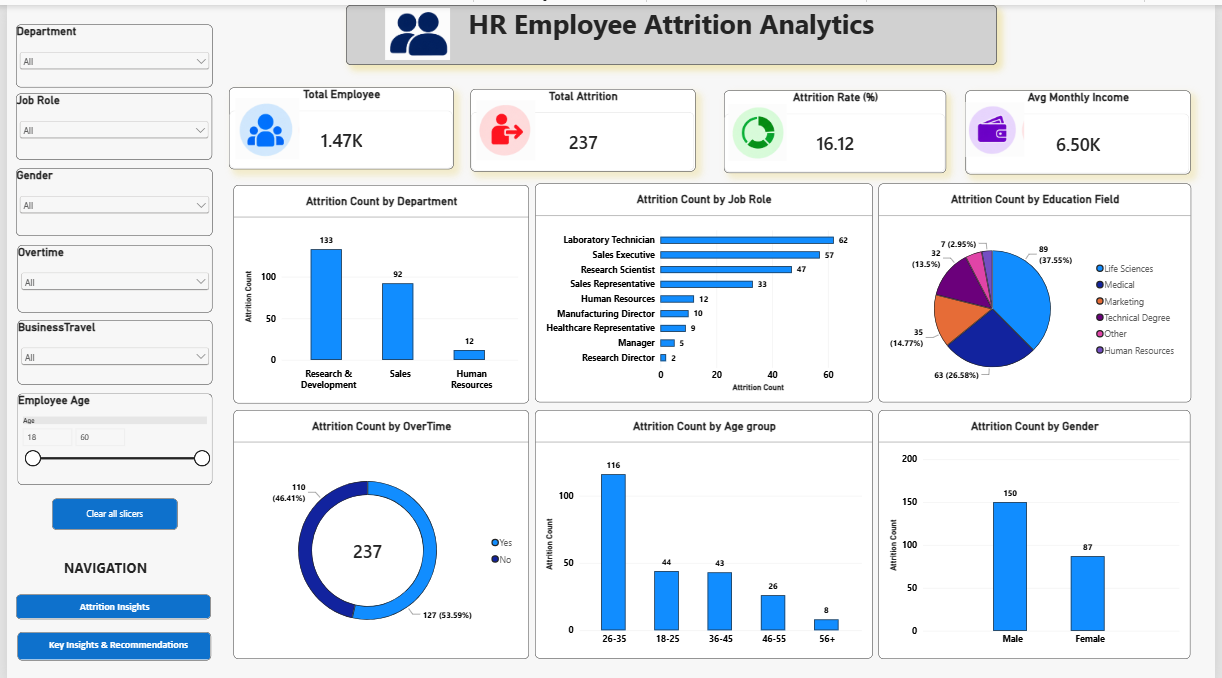

What the dashboard file says about the page in this screenshot:
{"tool":"powerbi","page":{"name":"EXECUTIVE OVERVIEW","canvas":[1920,1080],"ordinal":1},"visuals":[{"type":"textbox","box":[540,0,1035,95],"z":0},{"type":"cardVisual","title":"Total Employee","fields":{"Data":["hr_analytics hr_attrition.Total_Employee"]},"box":[353.1,131.2,357.5,130],"z":1000},{"type":"cardVisual","title":"Total Attrition","fields":{"Data":["hr_analytics hr_attrition.Total Attrition"]},"box":[737.2,133.6,357.9,131.2],"z":2000},{"type":"cardVisual","title":"Attrition Rate (%)","fields":{"Data":["hr_analytics hr_attrition.Attrition_rate"]},"box":[1140.5,136,353.1,131.2],"z":3000},{"type":"cardVisual","title":"Avg Monthly Income","fields":{"Data":["hr_analytics hr_attrition.avg_onthly_income"]},"box":[1524.6,136,357.9,133.6],"z":4000},{"type":"columnChart","title":"Attrition Count by Department","fields":{"Category":["hr_analytics hr_attrition.Department"],"Y":["hr_analytics hr_attrition.Total Attrition"]},"box":[360,286,470,347],"z":5000},{"type":"clusteredBarChart","title":"Attrition Count by Job Role","fields":{"Category":["hr_analytics hr_attrition.JobRole"],"Y":["hr_analytics hr_attrition.Total Attrition"]},"box":[839,285,537,348],"z":6000},{"type":"columnChart","title":"Attrition Count by Gender","fields":{"Category":["hr_analytics hr_attrition.Gender"],"Y":["hr_analytics hr_attrition.Total Attrition"]},"box":[1386,645,496,396],"z":7000},{"type":"donutChart","title":"Attrition Count by OverTime","fields":{"Category":["hr_analytics hr_attrition.OverTime"],"Y":["hr_analytics hr_attrition.Total Attrition"]},"box":[360,645,470,396.2],"z":8000},{"type":"pieChart","title":"Attrition Count by Education Field","fields":{"Category":["hr_analytics hr_attrition.EducationField"],"Y":["hr_analytics hr_attrition.Total Attrition"]},"box":[1386,285,497,348],"z":9000},{"type":"columnChart","title":" Attrition Count by Age group","fields":{"Category":["hr_analytics hr_attrition.Age Group"],"Y":["hr_analytics hr_attrition.Total Attrition"]},"box":[840,645,537.5,395],"z":10000},{"type":"slicer","title":"Department","fields":{"Values":["hr_analytics hr_attrition.Department"]},"box":[14.5,30.9,312.7,100],"z":11000},{"type":"slicer","title":"Job Role","fields":{"Values":["hr_analytics hr_attrition.JobRole"]},"box":[14.5,140.9,311.8,105.5],"z":12000},{"type":"slicer","title":"Gender","fields":{"Values":["hr_analytics hr_attrition.Gender"]},"box":[13.6,260.9,312.7,107.3],"z":13000},{"type":"slicer","title":"Overtime","fields":{"Values":["hr_analytics hr_attrition.OverTime"]},"box":[16.4,381.8,310,107.3],"z":14000},{"type":"slicer","title":"BusinessTravel","fields":{"Values":["hr_analytics hr_attrition.BusinessTravel"]},"box":[16.4,500.9,310,102.7],"z":15000},{"type":"slicer","title":"Employee Age","fields":{"Values":["hr_analytics hr_attrition.Age"]},"box":[17.5,617.5,310,145],"z":16000},{"type":"actionButton","box":[70.8,785.4,200,50],"z":17000},{"type":"image","box":[360.3,147.9,107.4,97.8],"z":18000},{"type":"image","box":[746.8,140.8,93.1,116.9],"z":19000},{"type":"image","box":[1140.5,157.5,107.4,90.7],"z":20000},{"type":"image","box":[1524.6,145.5,93.1,105],"z":21000},{"type":"image","box":[595,5,117.5,82.5],"z":22000},{"type":"actionButton","box":[16.2,996.2,307.7,45.4],"z":23000},{"type":"textbox","box":[91.5,881.5,160,33.1],"z":24000},{"type":"actionButton","box":[13.8,938.5,310,39.2],"z":25000},{"type":"textbox","box":[83.8,947.7,175.4,21.5],"z":26000},{"type":"textbox","box":[63.1,1007.7,230.8,23.1],"z":27000}]}

Visuals, with their boxes in screenshot pixels (x1, y1, x2, y2), scaled from the page's 1920x1080 canvas onto the 1222x678 screenshot:
textbox: left=344, top=0, right=1002, bottom=60
"Total Employee" cardVisual: left=225, top=82, right=452, bottom=164
"Total Attrition" cardVisual: left=469, top=84, right=697, bottom=166
"Attrition Rate (%)" cardVisual: left=726, top=85, right=951, bottom=168
"Avg Monthly Income" cardVisual: left=970, top=85, right=1198, bottom=169
"Attrition Count by Department" columnChart: left=229, top=180, right=528, bottom=397
"Attrition Count by Job Role" clusteredBarChart: left=534, top=179, right=876, bottom=397
"Attrition Count by Gender" columnChart: left=882, top=405, right=1198, bottom=654
"Attrition Count by OverTime" donutChart: left=229, top=405, right=528, bottom=654
"Attrition Count by Education Field" pieChart: left=882, top=179, right=1198, bottom=397
" Attrition Count by Age group" columnChart: left=535, top=405, right=877, bottom=653
"Department" slicer: left=9, top=19, right=208, bottom=82
"Job Role" slicer: left=9, top=88, right=208, bottom=155
"Gender" slicer: left=9, top=164, right=208, bottom=231
"Overtime" slicer: left=10, top=240, right=208, bottom=307
"BusinessTravel" slicer: left=10, top=314, right=208, bottom=379
"Employee Age" slicer: left=11, top=388, right=208, bottom=479
actionButton: left=45, top=493, right=172, bottom=524
image: left=229, top=93, right=298, bottom=154
image: left=475, top=88, right=535, bottom=162
image: left=726, top=99, right=794, bottom=156
image: left=970, top=91, right=1030, bottom=157
image: left=379, top=3, right=453, bottom=55
actionButton: left=10, top=625, right=206, bottom=654
textbox: left=58, top=553, right=160, bottom=574
actionButton: left=9, top=589, right=206, bottom=614
textbox: left=53, top=595, right=165, bottom=608
textbox: left=40, top=633, right=187, bottom=647
